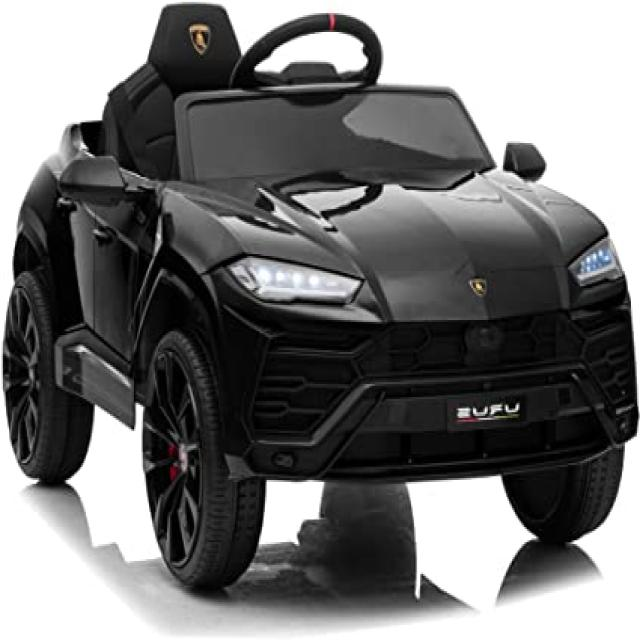Car: (2, 0, 640, 593)
